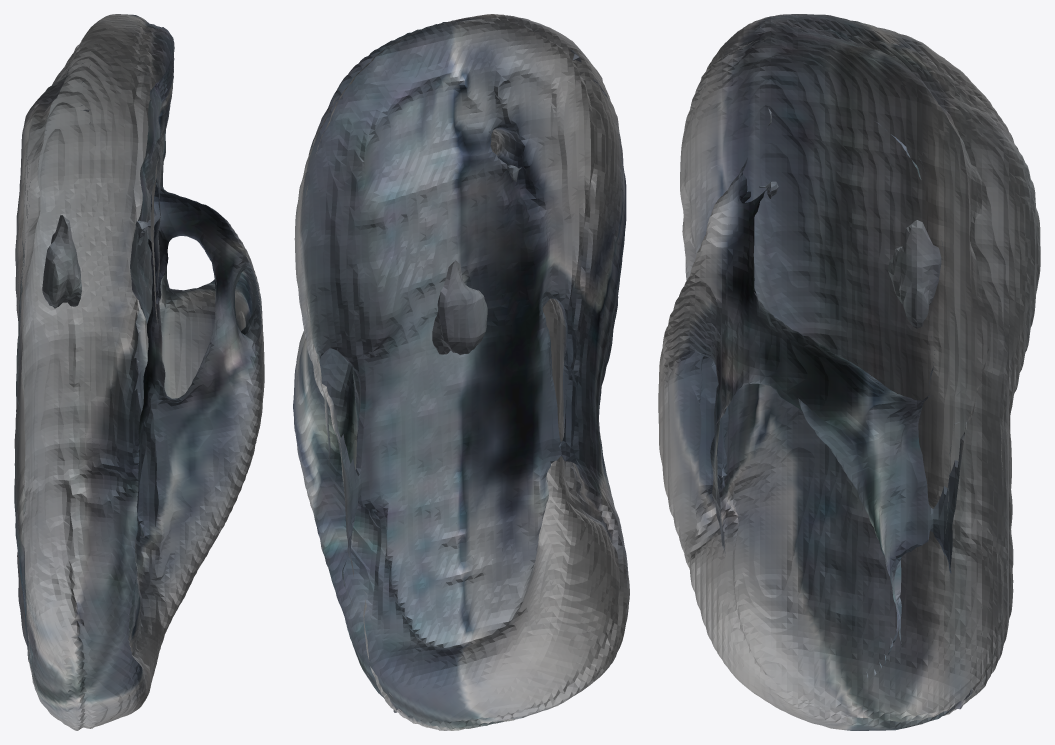
File: mesh_nerf_colors.glb
3 views of the same model, side by side, from view 1: azimuth 30°, elevation 25°; view 2: azimuth 150°, elevation 25°; view 3: azimuth 270°, elevation 25° (orthographic). The views are drawn at different scales.
Parts seen in each view (by area): view 1: world; view 2: world; view 3: world.
Part boxes in pixels (bbox=[...]): world: bbox=[14, 14, 264, 730]; world: bbox=[293, 14, 629, 730]; world: bbox=[658, 14, 1040, 730].
Bounding box in the file's own units: 0.4065 × 0.9995 × 0.4819.
